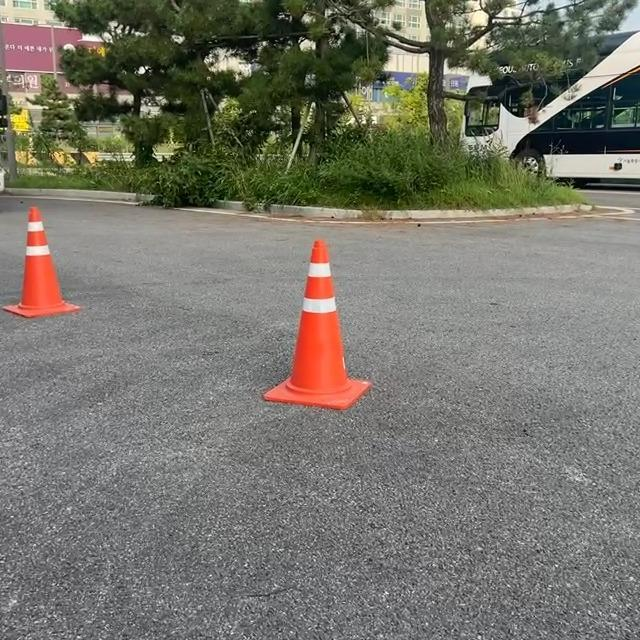fallen_object: (242, 226, 474, 484), (3, 190, 145, 352)
